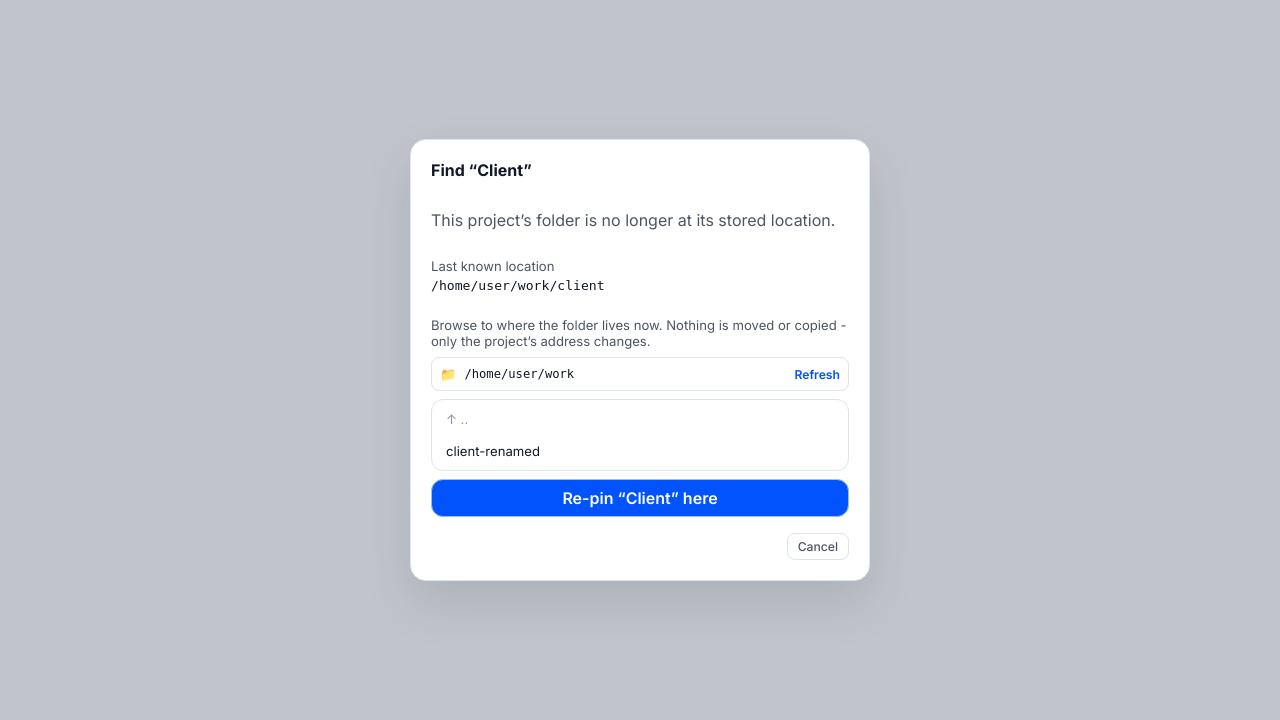
RelocateProjectModal › offers no override for a refusal the owner cannot confirm away
Click the button "client-renamed" at (493,451), box [436, 436, 844, 466]
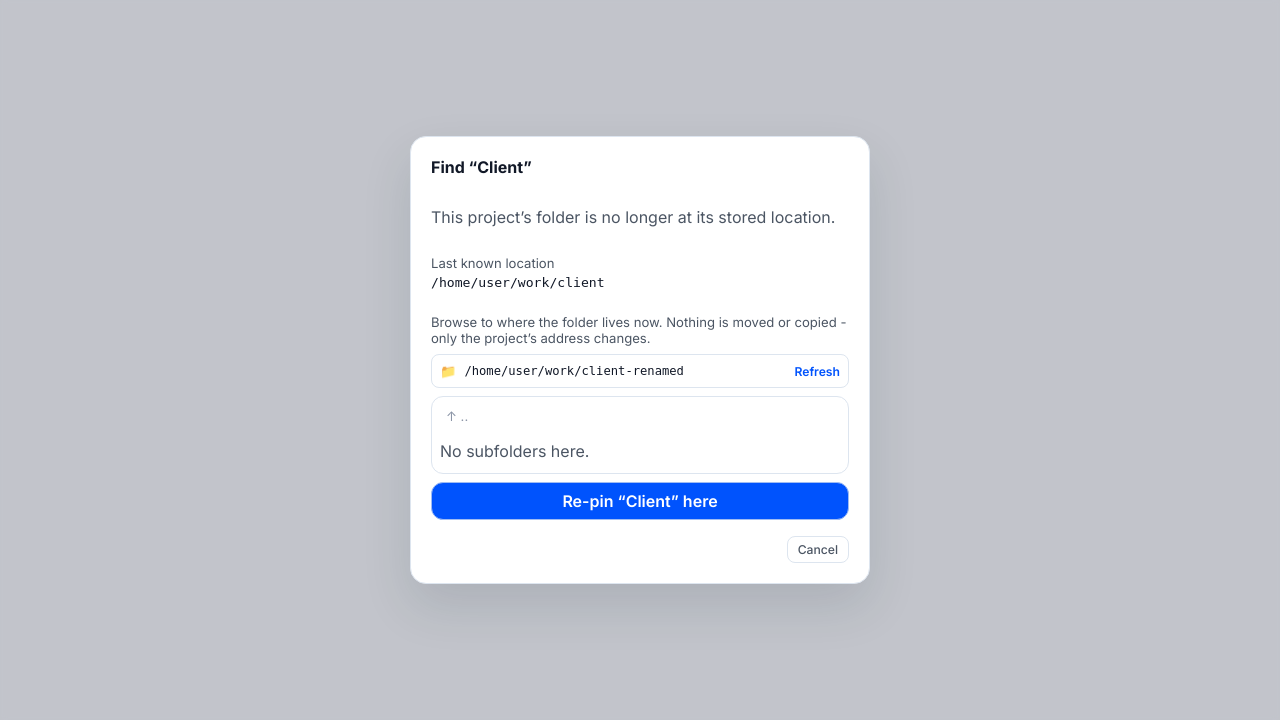
Click the button "Re-pin “Client” here" at (640,501), box [431, 482, 849, 520]
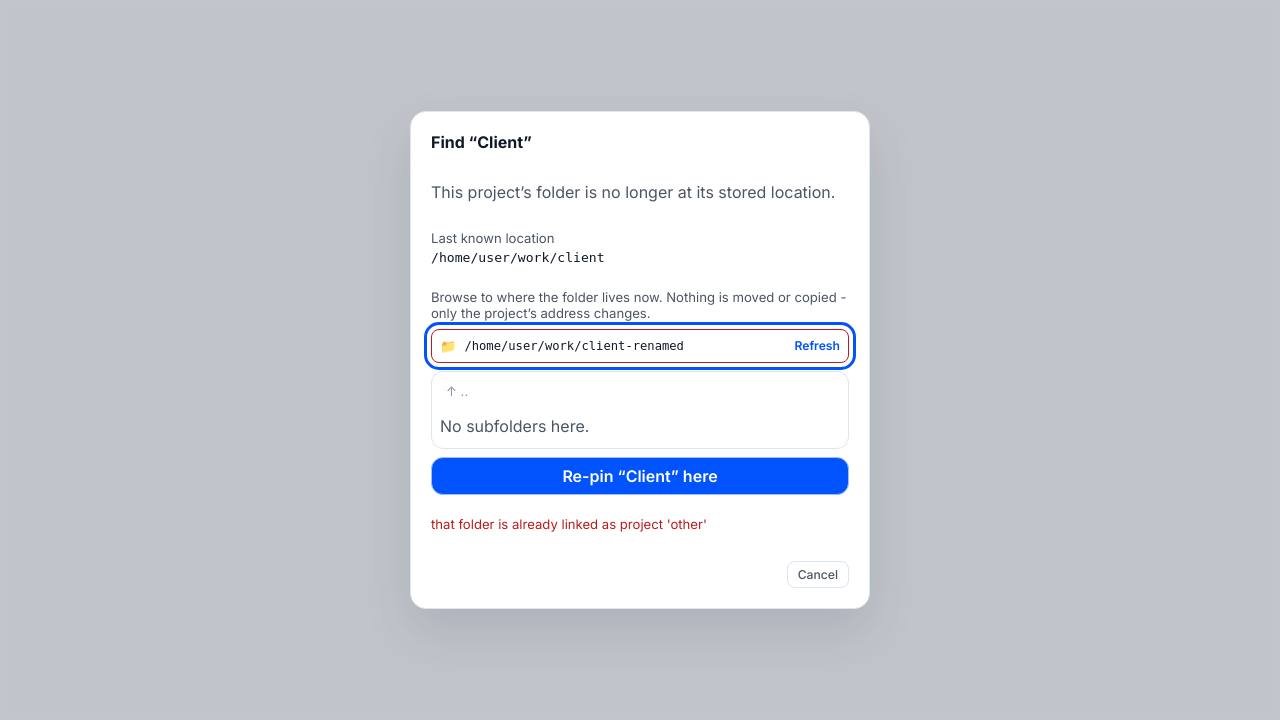
expect the message shows "already linked as project": met, box [431, 516, 707, 532]
